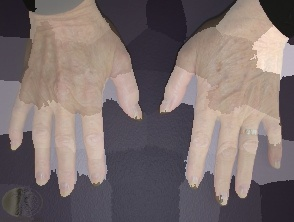Nail_psoriasis: (155, 95, 176, 118), (87, 169, 106, 189), (185, 173, 203, 191), (58, 182, 73, 201), (34, 172, 49, 187), (235, 185, 250, 200), (132, 102, 143, 121), (218, 192, 229, 207), (10, 138, 20, 151), (273, 161, 282, 170)
